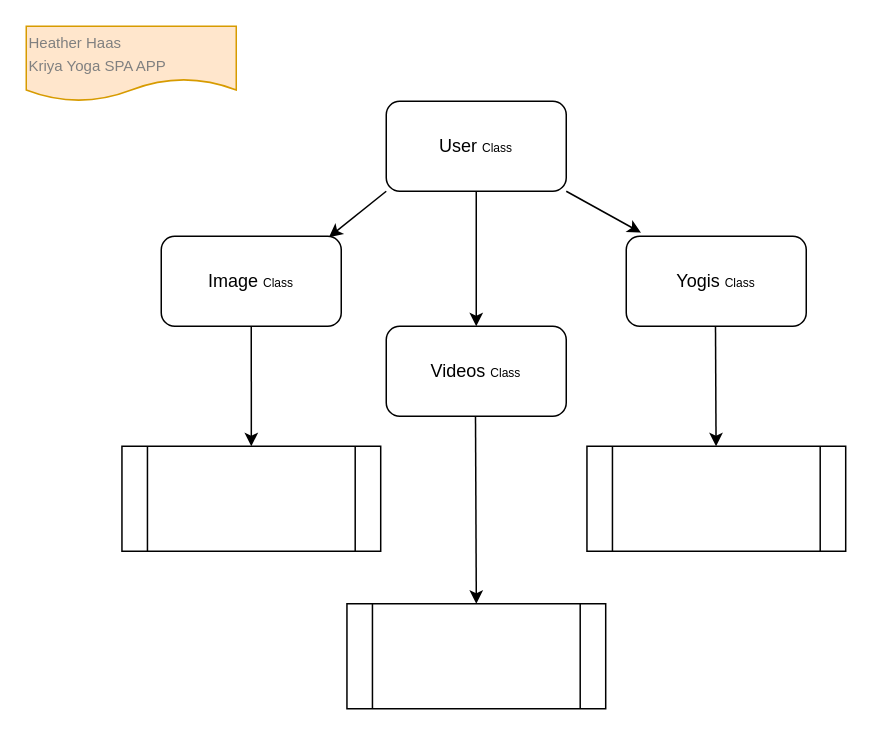
This 873x735 diagram has some shape labels left out. The shapes that lost their labels are listed below. From the top down, each one's centre as x and y in pixels, then its label:
At point 250,498: "View Images Add + Images Like ❤️Image".
At point 715,498: "Add + Name to DB Add + Email to DB".
At point 475,655: "View random YouTube Video of Kriya Yoga".
